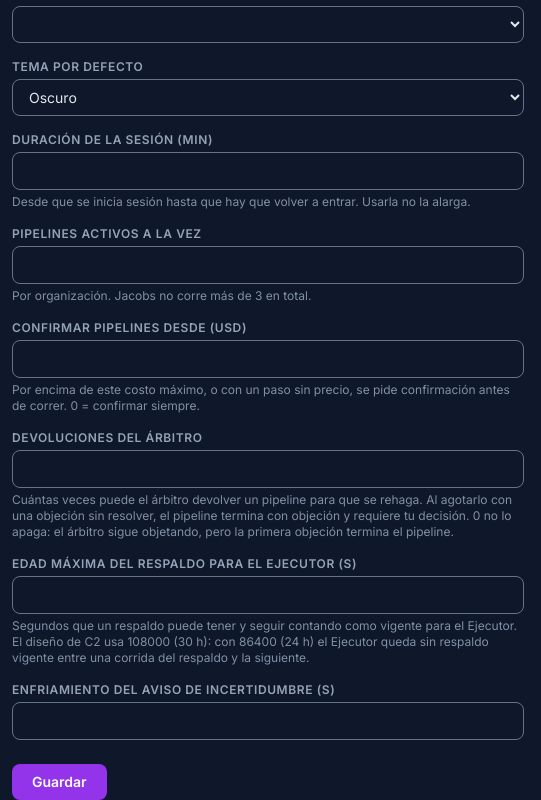
AdminSettings -- el botón mientras guarda (ronda final M8) › dice "Guardando…", no el texto de subir adjuntos
This screenshot has width=541, height=800.
(page scrolled)
Click the button "Guardar" at (59, 782), box [12, 764, 107, 799]
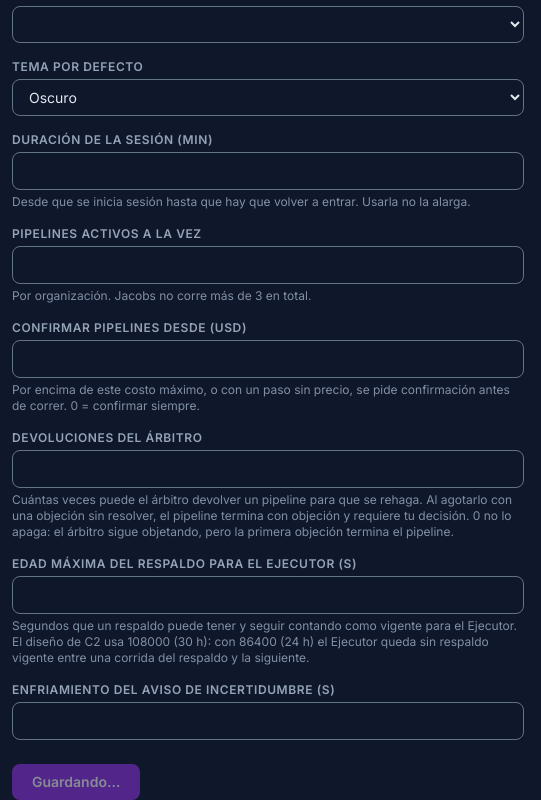
Expected: the button "Guardando…" is disabled, [12, 764, 140, 799]
